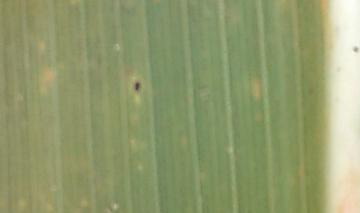tarspot: (130, 76, 143, 95), (350, 42, 360, 58)
